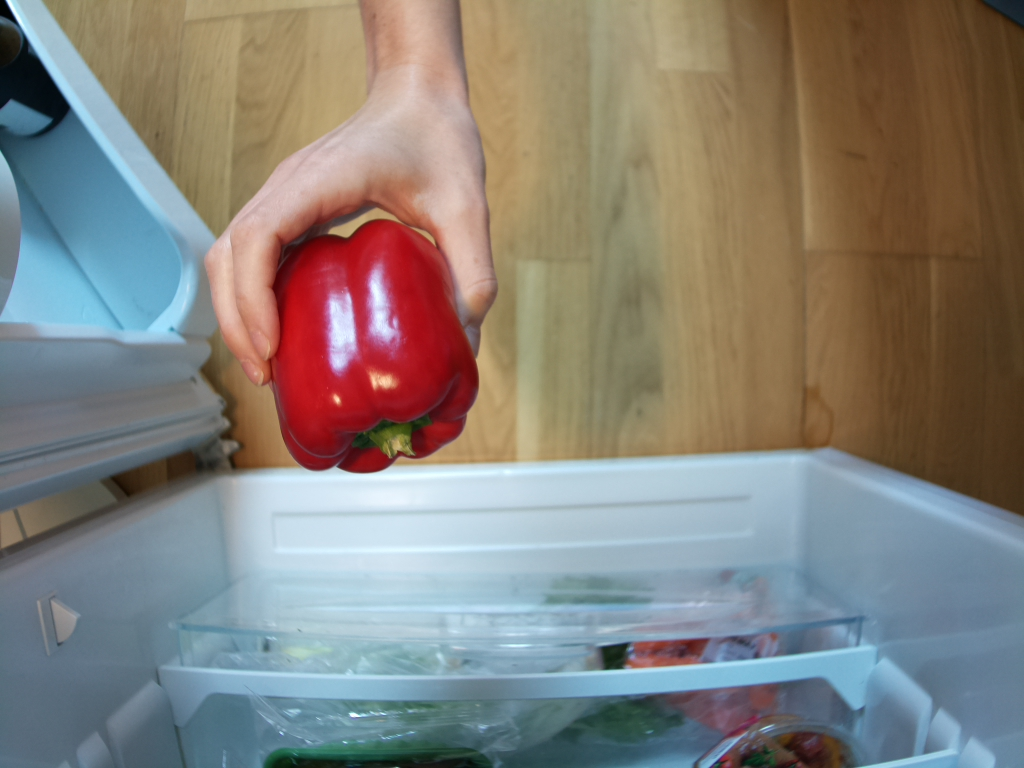pepper: (267, 219, 481, 475)
